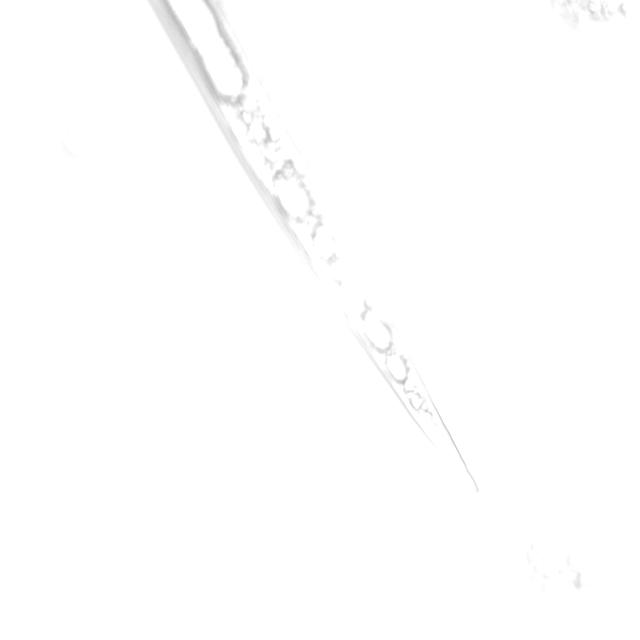Meloidogyne: (200, 14, 487, 498)
